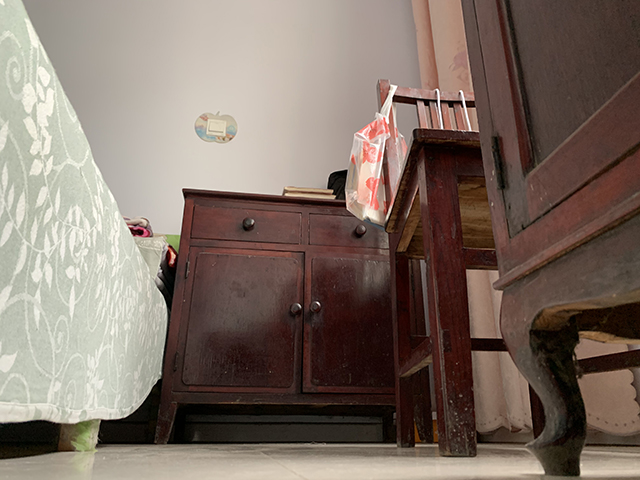bed: (1, 1, 181, 455)
cabinet: (461, 1, 640, 477), (151, 184, 433, 445)
stool: (375, 76, 548, 458)
